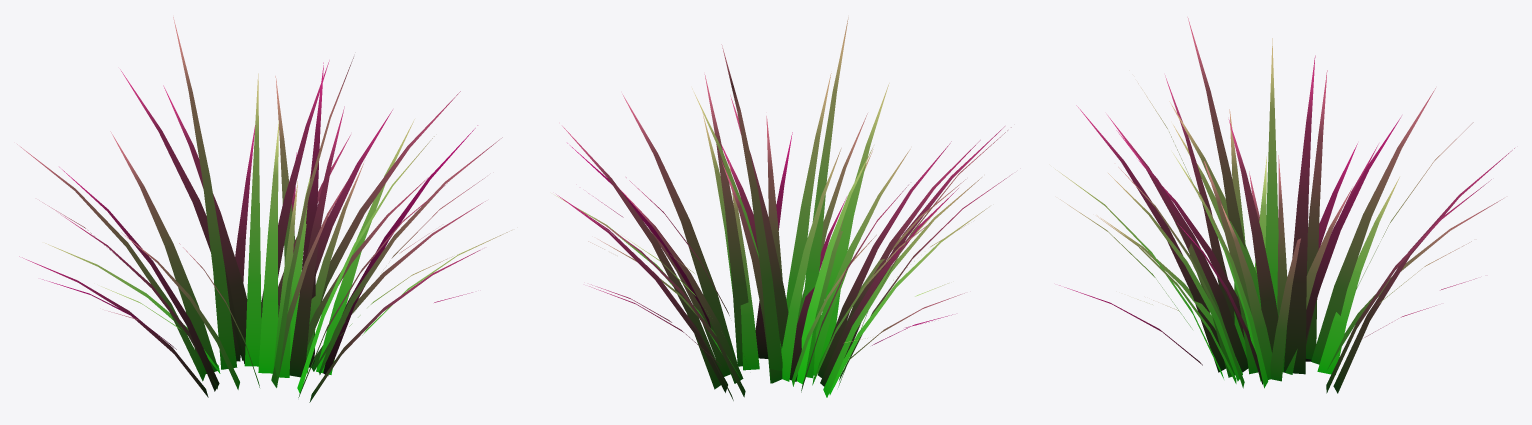
The model's file is grass_a.glb.
3 views of the same model, side by side, from view 1: azimuth 30°, elevation 25°; view 2: azimuth 150°, elevation 25°; view 3: azimuth 270°, elevation 25° (orthographic). The views are drawn at different scales.
Visible parts, largest first — view 1: Grass_A; view 2: Grass_A; view 3: Grass_A.
Boxes of the visible parts, left/top/right/bottom form: Grass_A: left=17, top=17, right=511, bottom=402; Grass_A: left=555, top=17, right=1011, bottom=400; Grass_A: left=1055, top=17, right=1514, bottom=393.
Size of the model in its own units: 1.2 by 0.8673 by 1.16.
